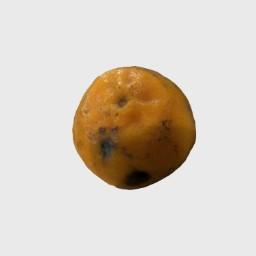Ripe: (71, 68, 196, 187)
